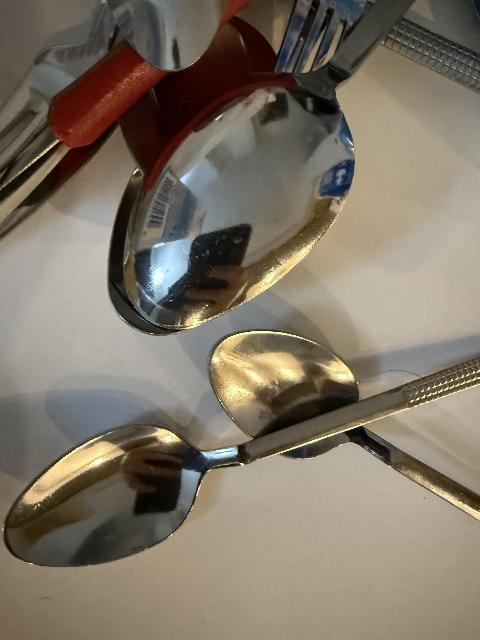Metal: (108, 0, 417, 337), (2, 352, 480, 567), (208, 328, 480, 531)
